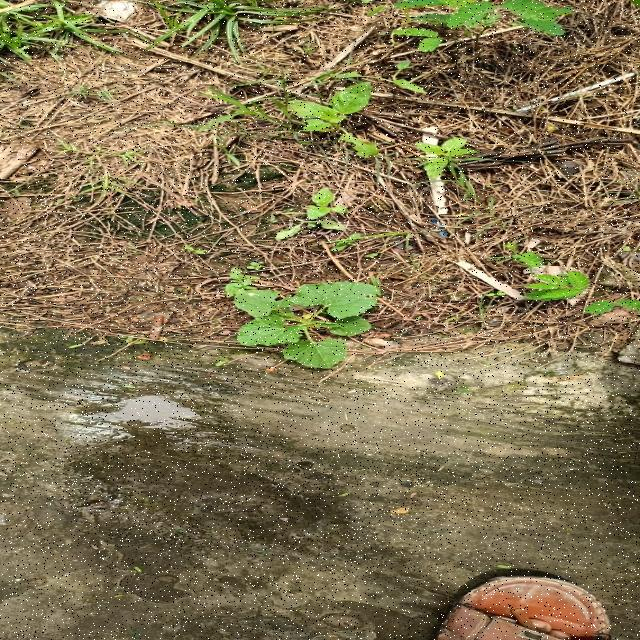plant: (223, 268, 378, 369)
